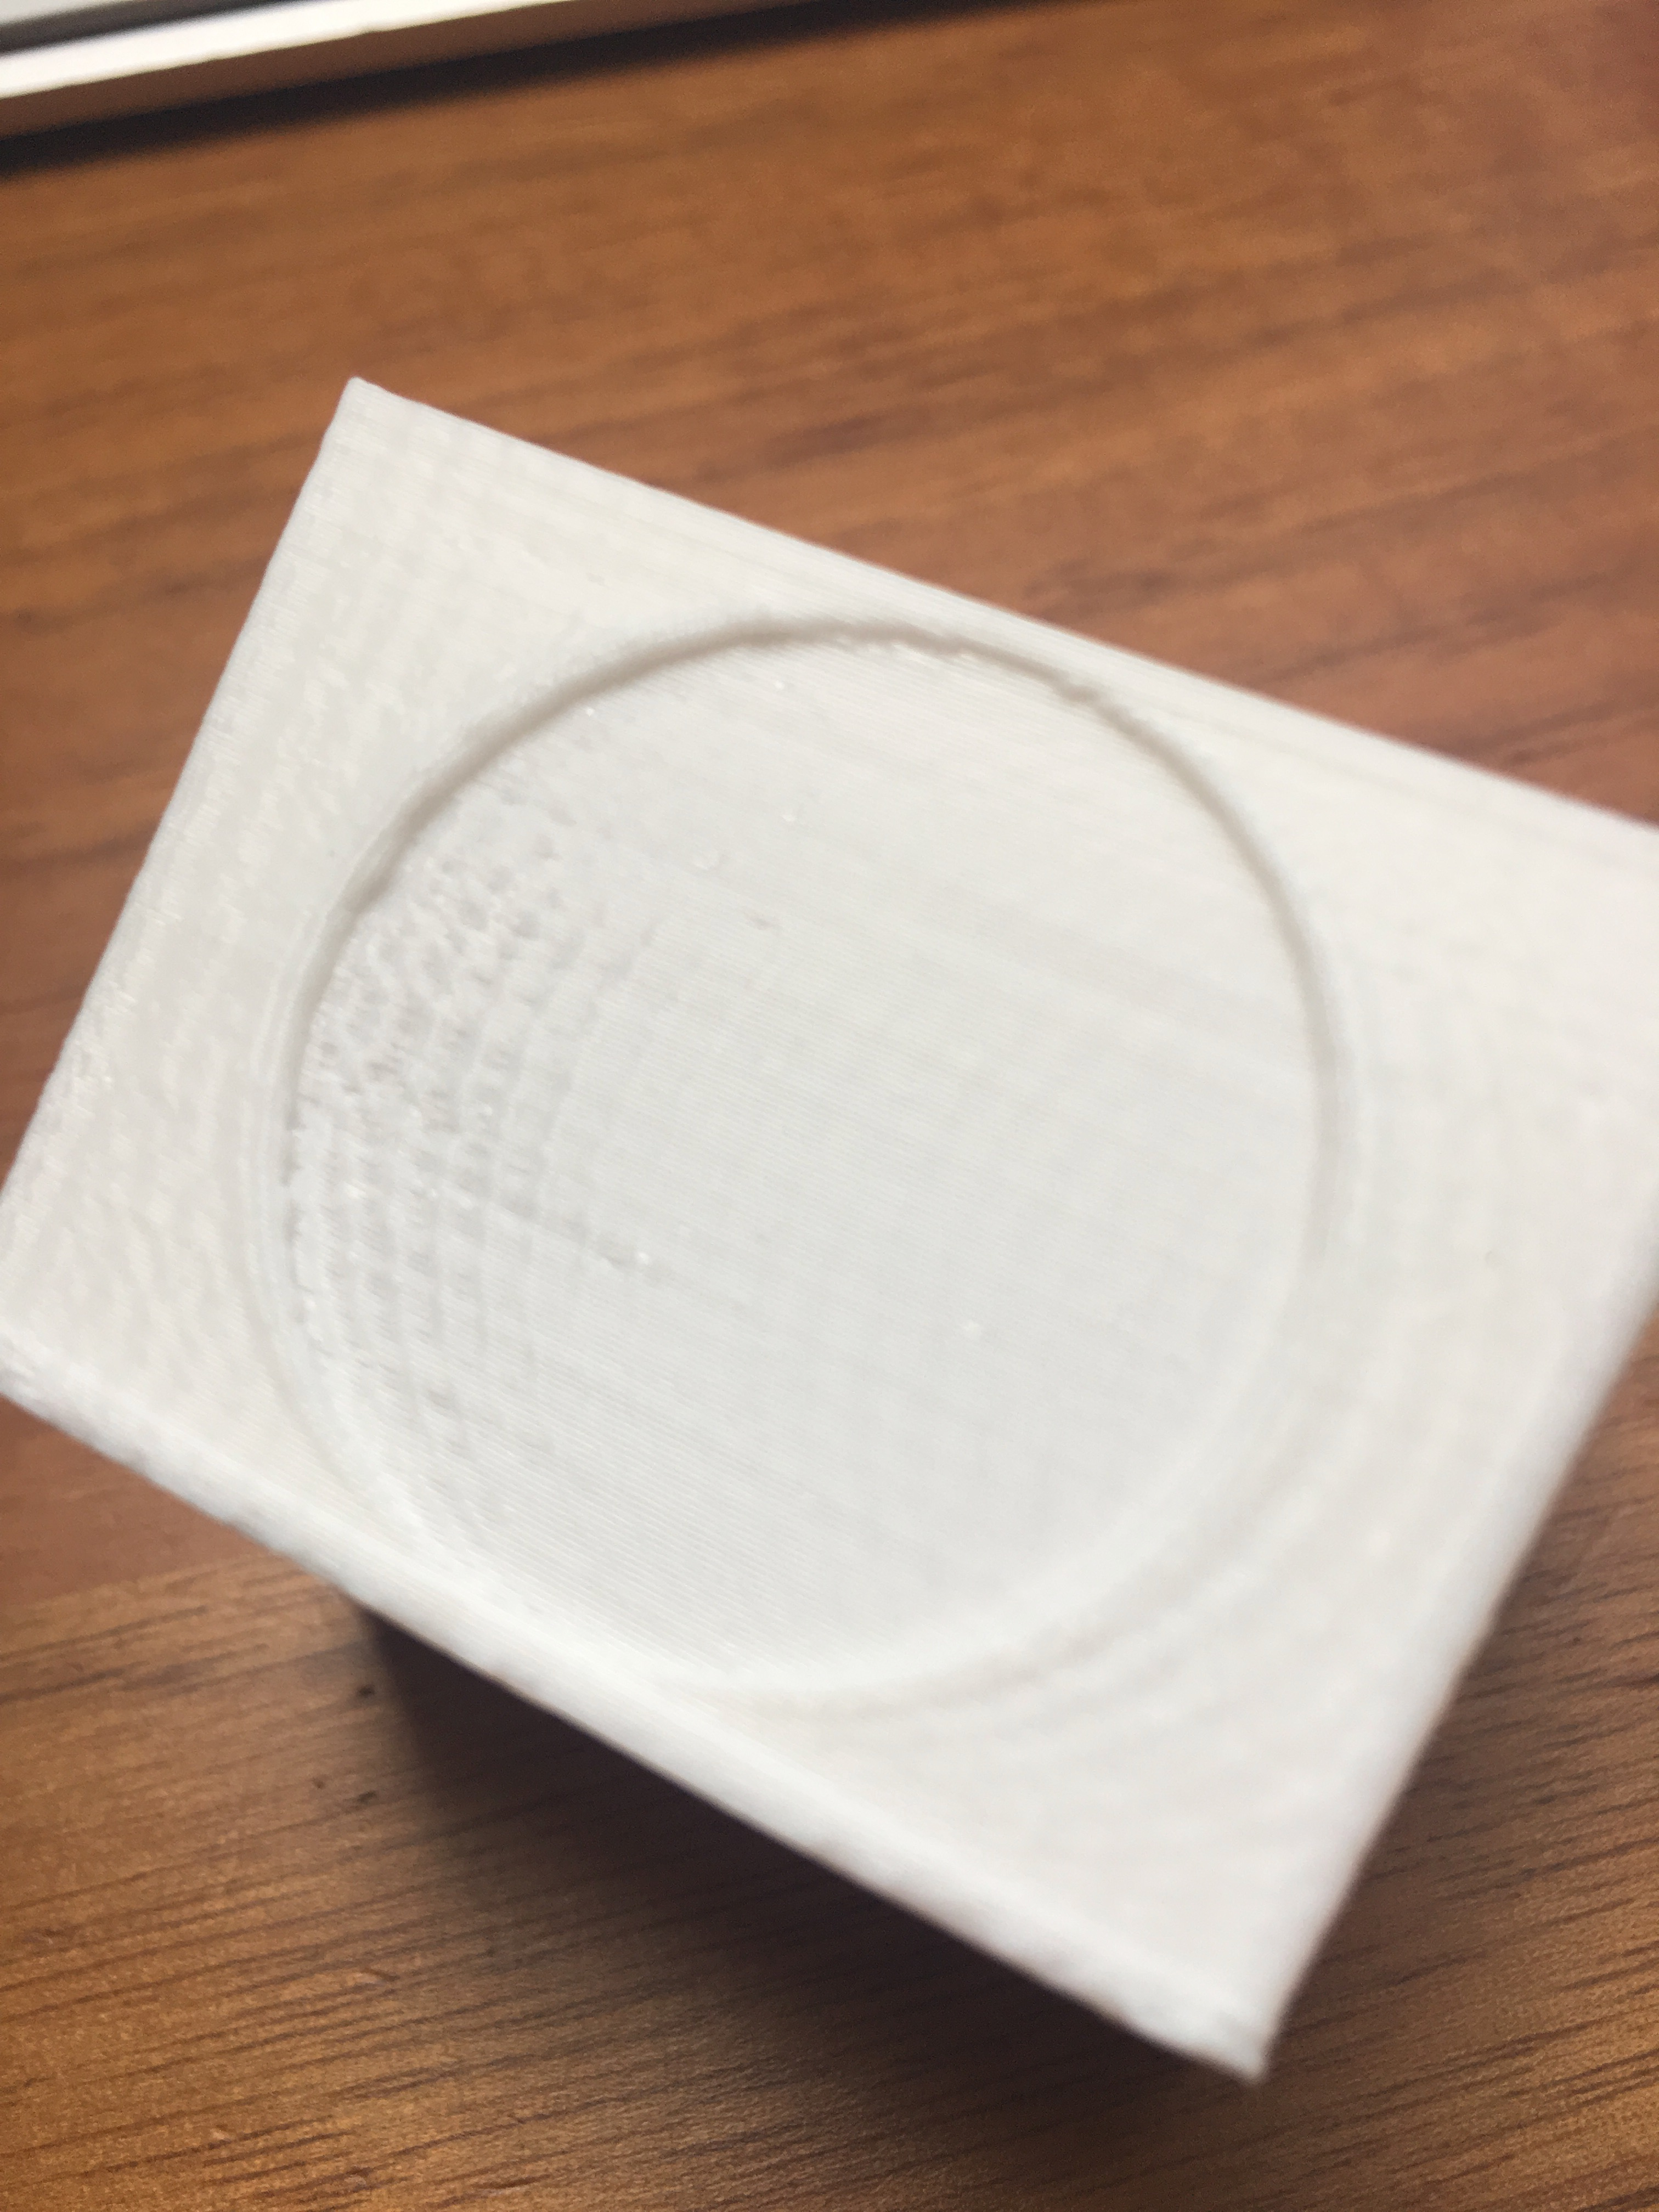3dpripples: (225, 840, 770, 1435), (796, 855, 1197, 1454), (1344, 1073, 1502, 1508), (917, 1622, 1171, 1862), (1197, 1543, 1405, 1754)
